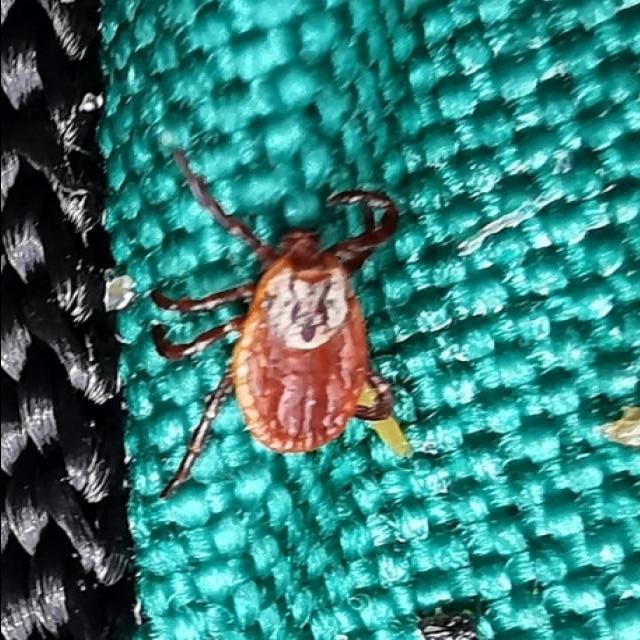Dermacentor Reticulatus-F: (150, 150, 398, 499)
